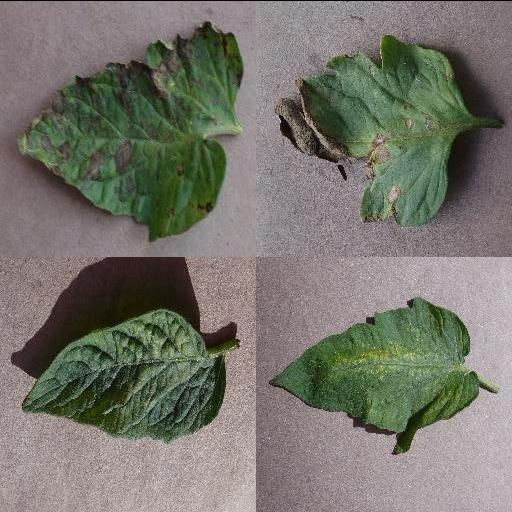Early Blight: (17, 20, 245, 242), (273, 31, 469, 229)
Spider Mites: (268, 296, 478, 454), (19, 309, 227, 440)
